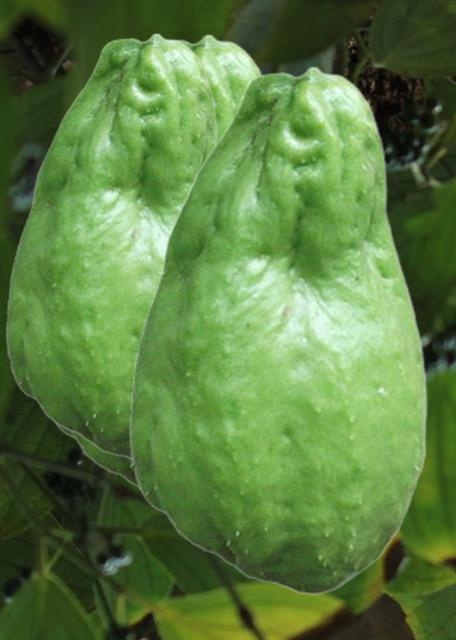sayote: (128, 65, 427, 594), (50, 33, 265, 493), (5, 32, 220, 461)
